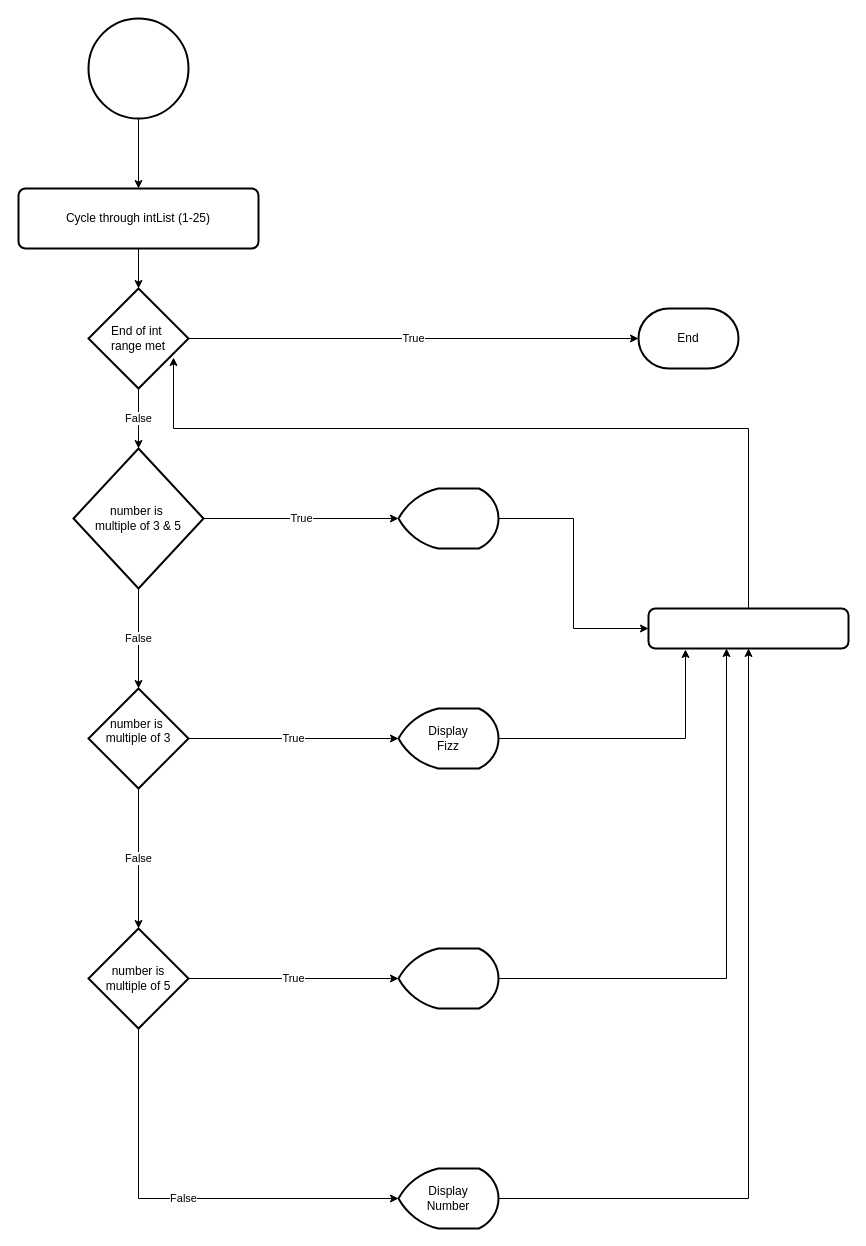
Some shapes in this 866 by 1246 pixel diagram are drawn without their labels. Here are the shapes that lost their labels. From the top down, the centre of each, then its label:
point (138, 68): Start
point (448, 518): Display FuzzBuzz
point (748, 628): Go to new line
point (448, 978): Display Buzz
